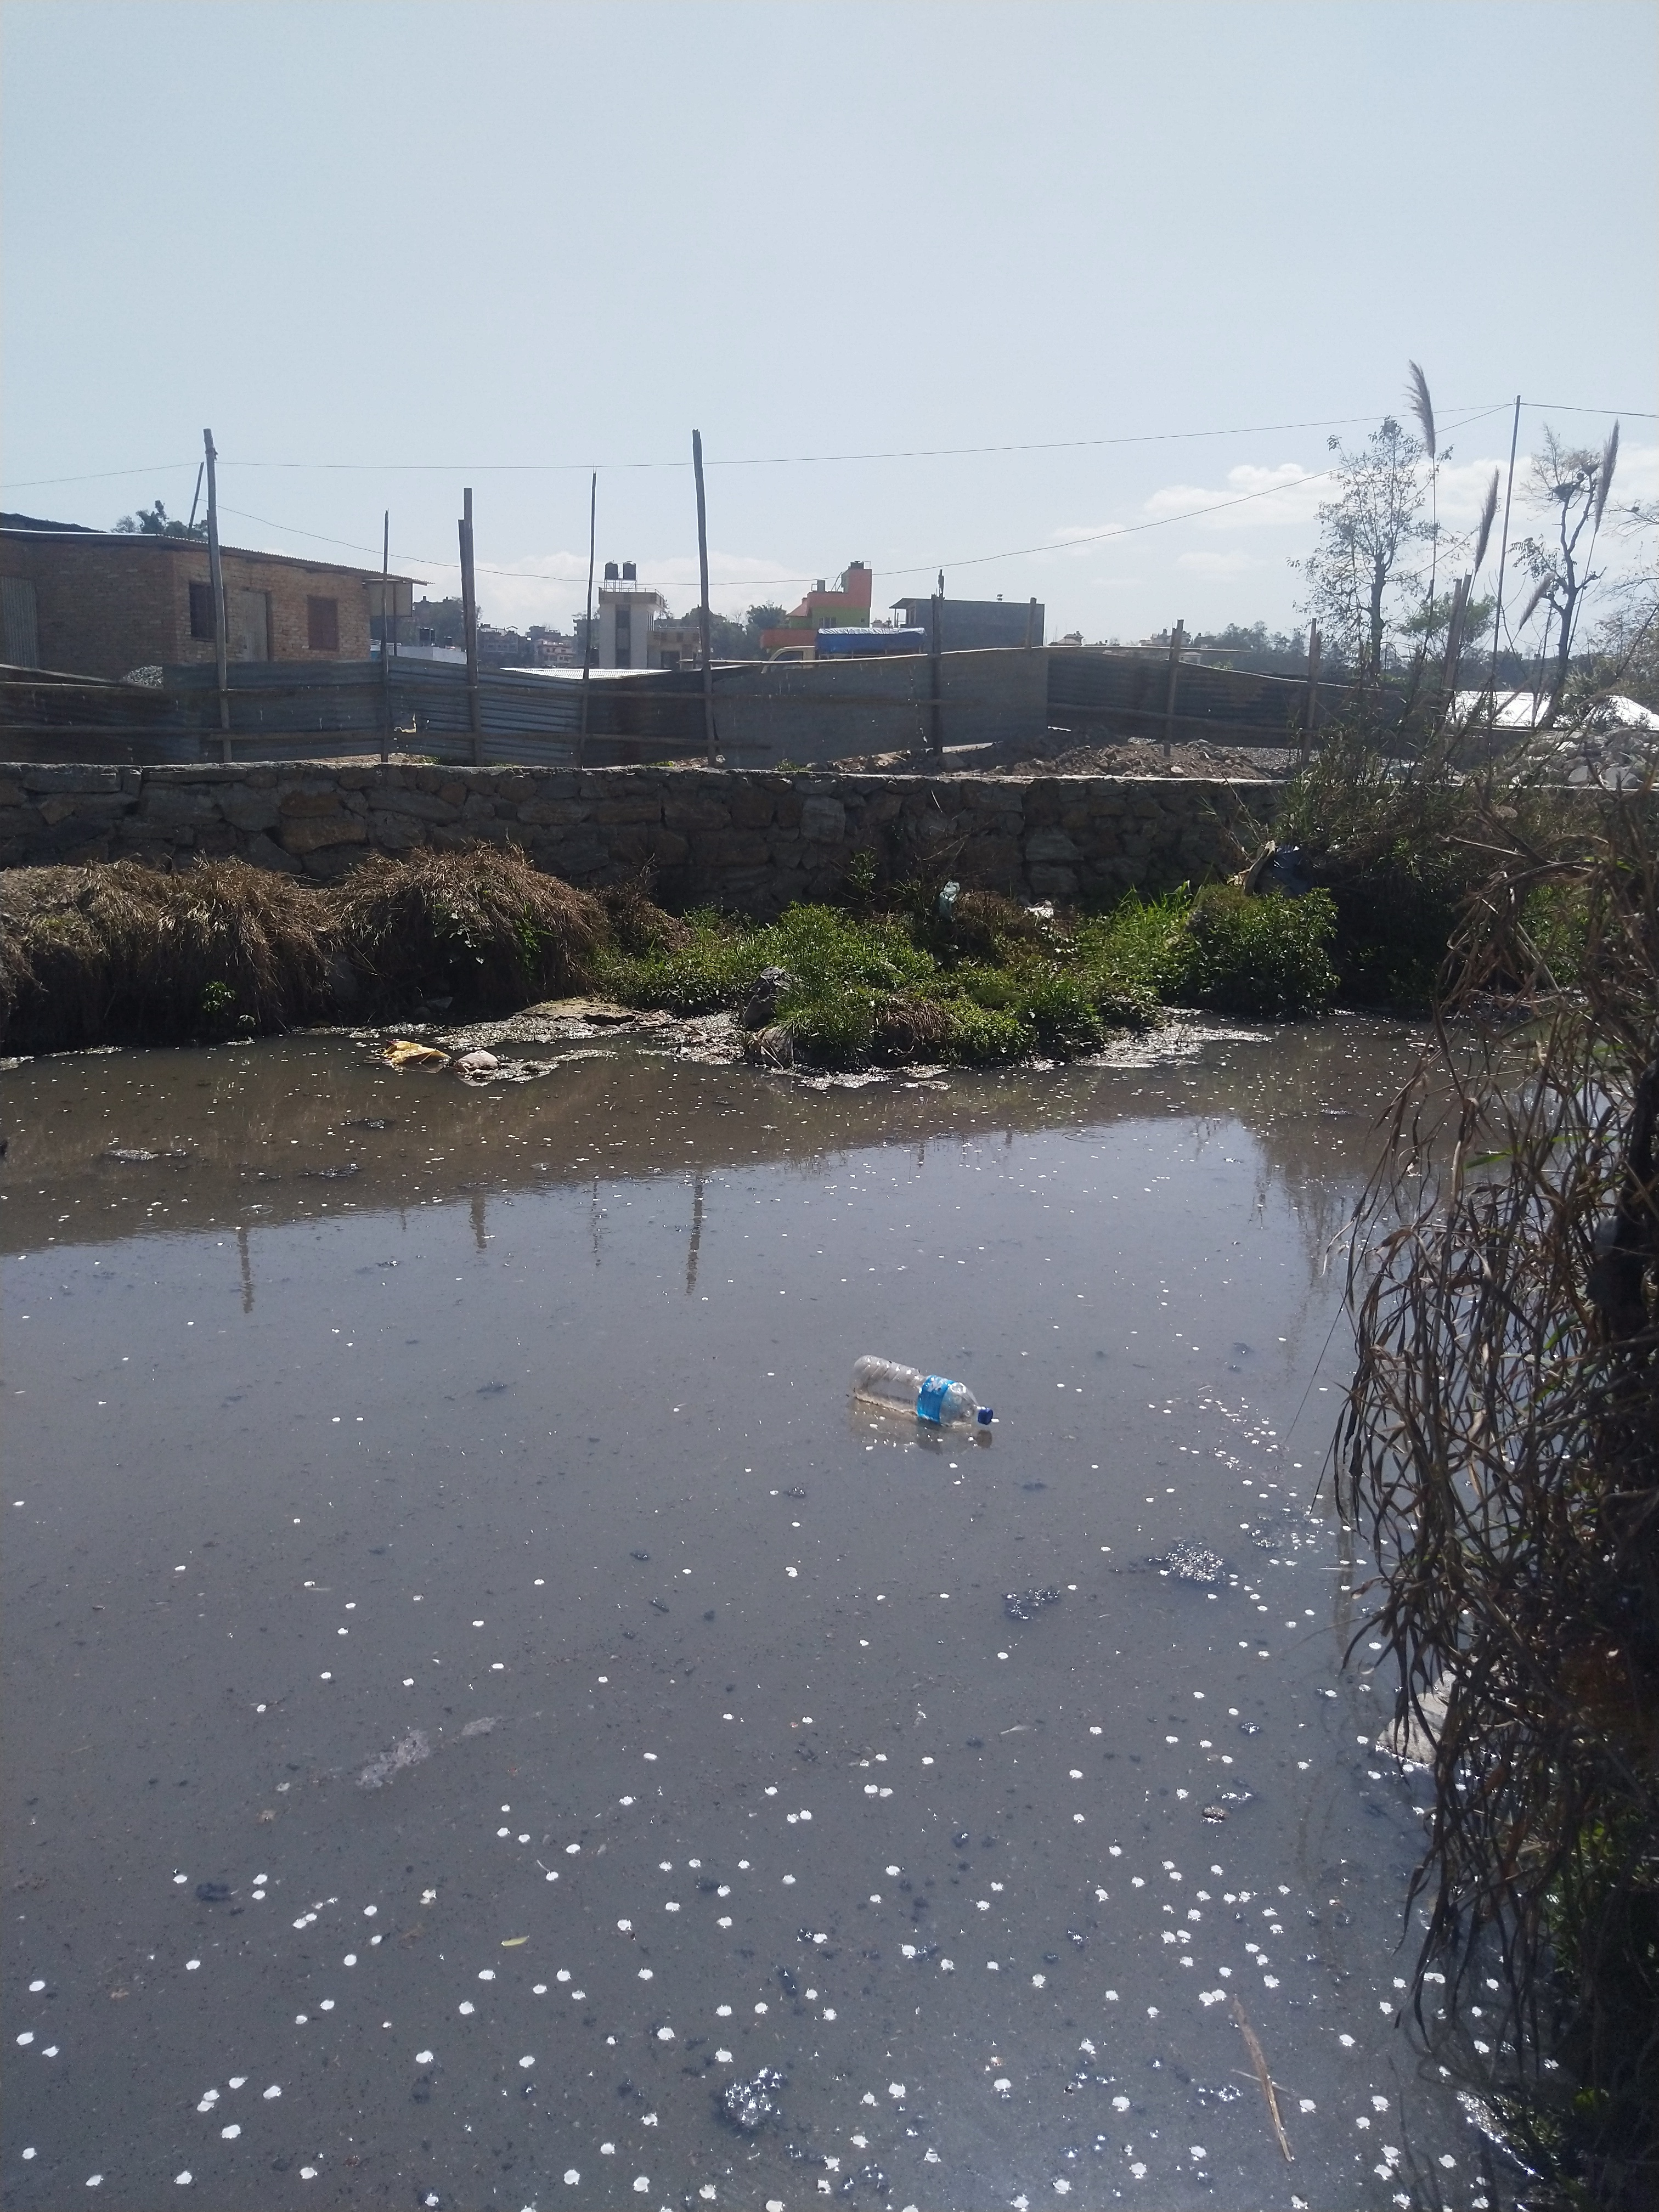Plastic Bottle: (850, 1355, 993, 1426)
